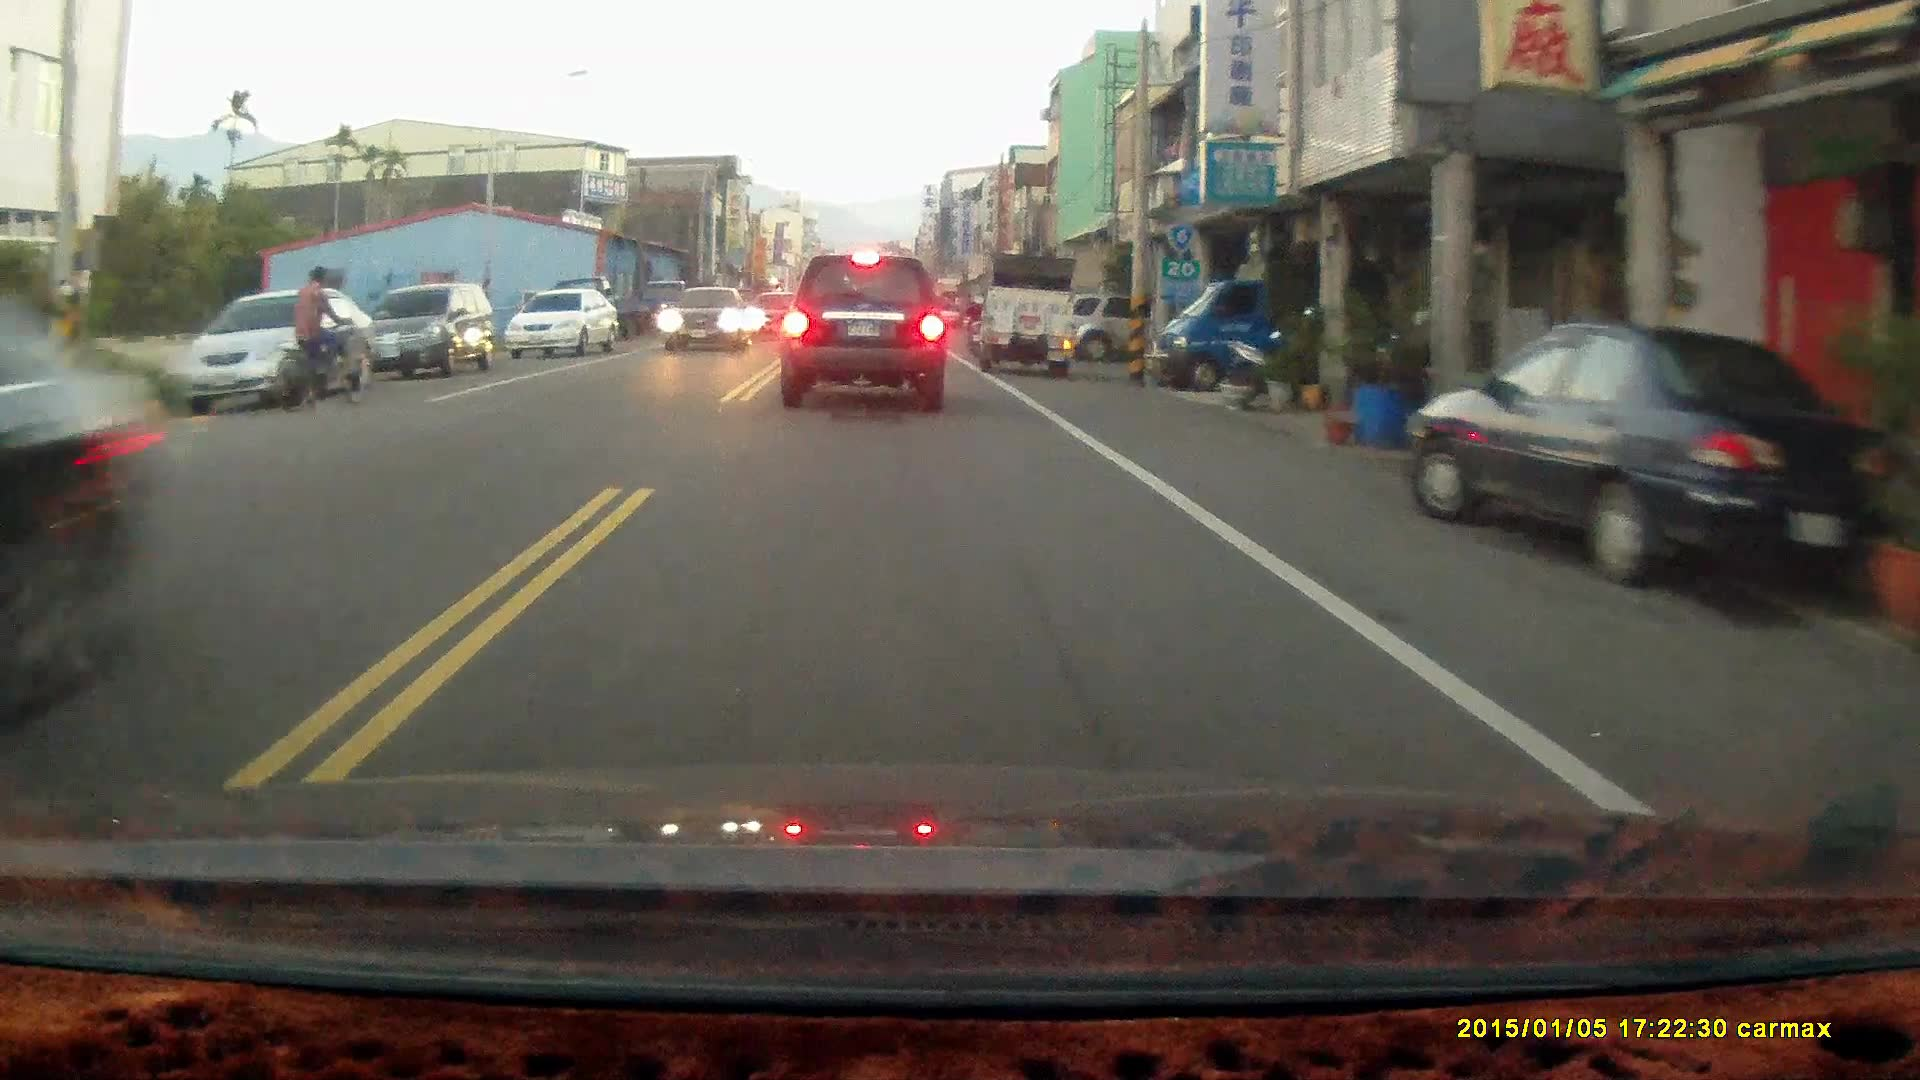rider: (268, 258, 372, 415), (961, 289, 989, 358)
vehicle: (1413, 321, 1869, 591), (1, 272, 164, 720), (781, 250, 949, 409), (178, 292, 382, 418), (1148, 249, 1316, 393), (354, 281, 502, 383), (978, 256, 1079, 377), (505, 288, 622, 362), (670, 286, 754, 352), (632, 279, 703, 342)
